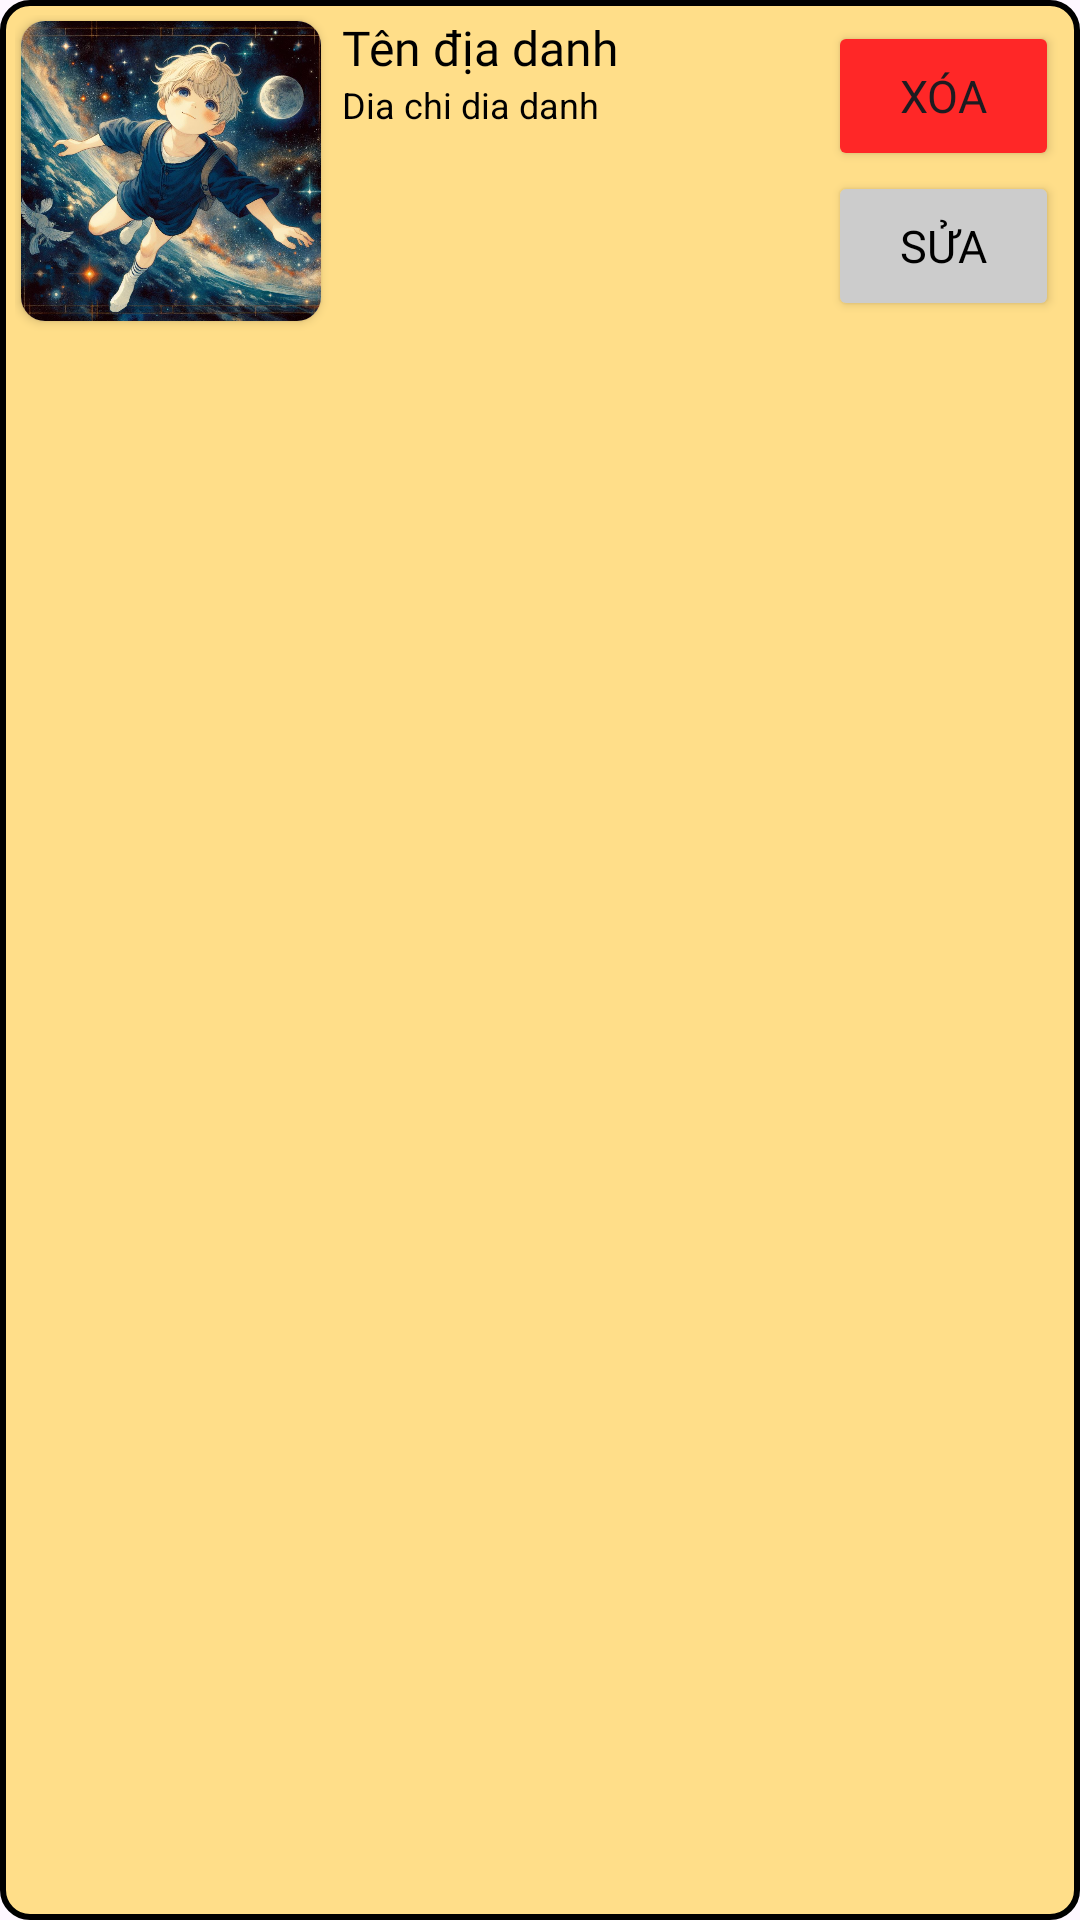

Icons on this 1080 × 1920 Android screen, each with its box as (x1=x1, y1=y1, x2=x2, y2=y2):
boy: (x1=21, y1=21, x2=321, y2=321)
